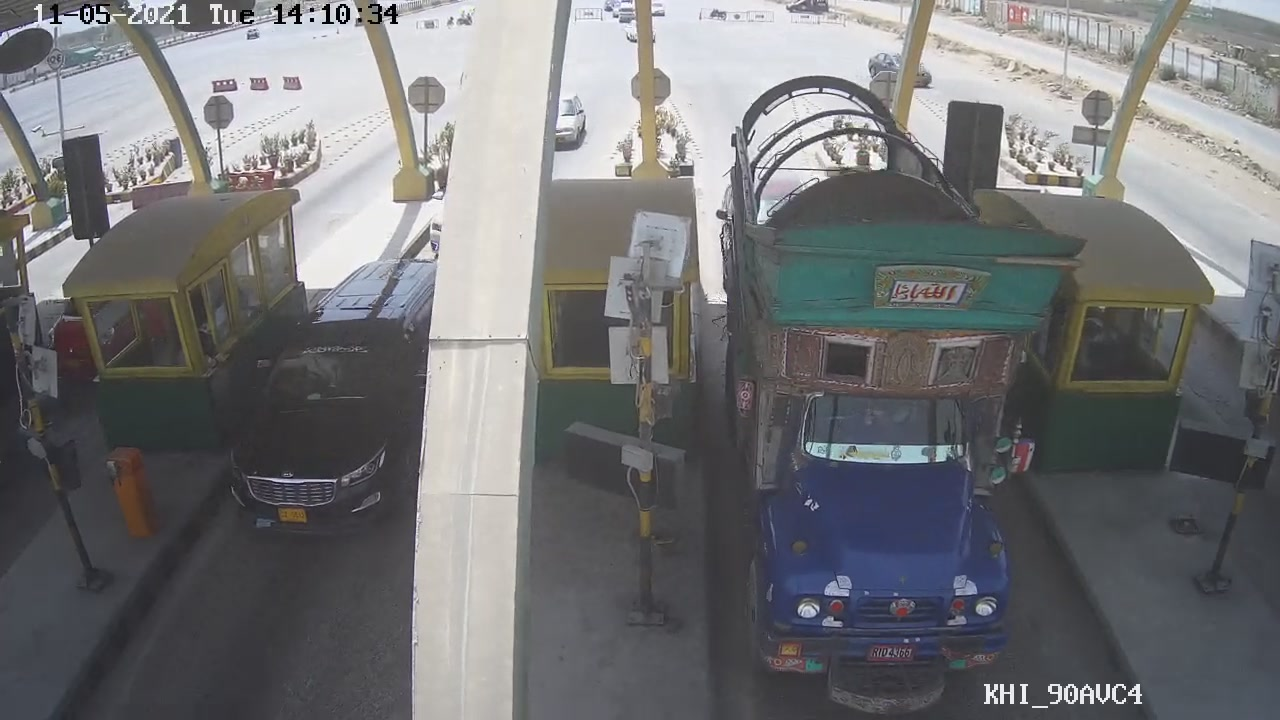F5: (705, 71, 1091, 715)
